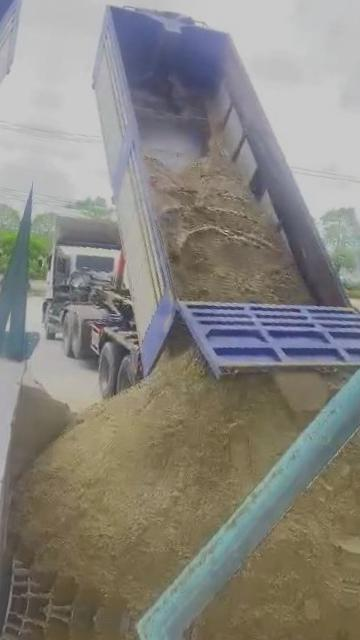sand: (7, 343, 352, 622), (196, 416, 360, 640), (146, 143, 312, 304), (9, 382, 74, 488)
